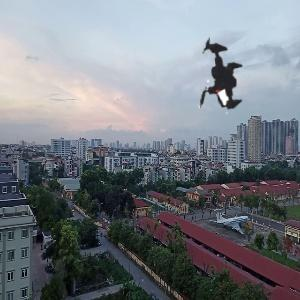drone: (161, 22, 272, 133)
